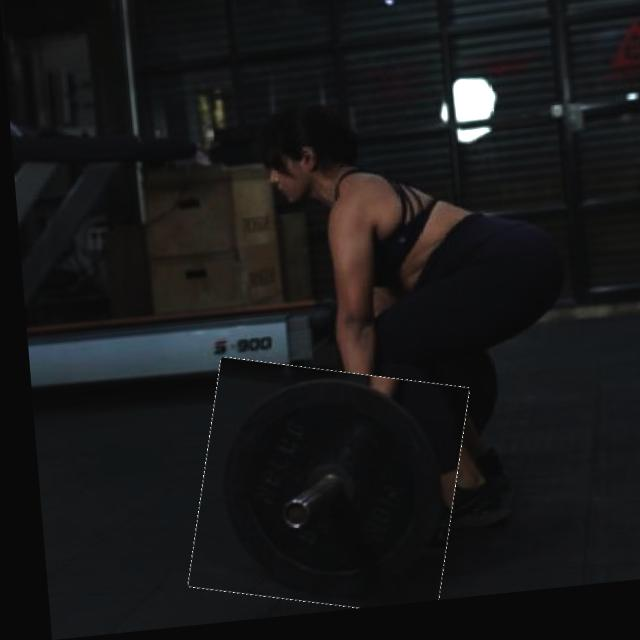barbell: (177, 355, 465, 629)
